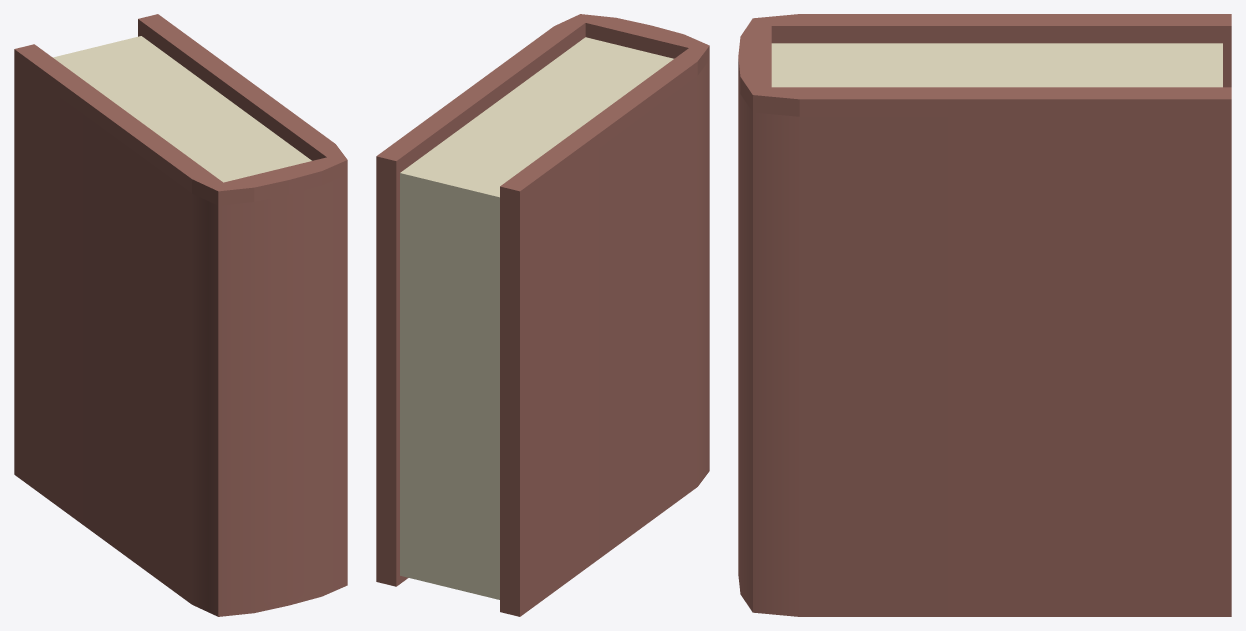
The model's file is atoll_Book_05.fbx.
3 renders of one model, left to right at view 1: azimuth 30°, elevation 25°; view 2: azimuth 150°, elevation 25°; view 3: azimuth 270°, elevation 25°, orthographic. The views are drawn at different scales.
Parts seen in each view (by area): view 1: Book_Blue1; view 2: Book_Blue1; view 3: Book_Blue1.
Part boxes in pixels (box(x1,y1,x2,y2)): Book_Blue1: box(14, 14, 347, 616); Book_Blue1: box(376, 14, 709, 616); Book_Blue1: box(738, 14, 1231, 616).
Size of the model in its own units: 5.44 by 15.38 by 13.29.
